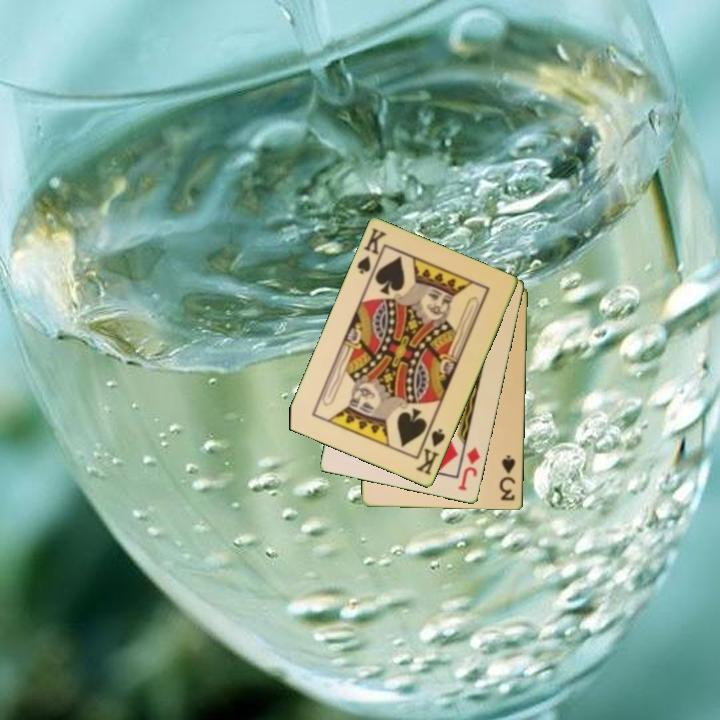3s: (497, 452, 519, 504)
Jd: (455, 444, 483, 494)
Ks: (354, 225, 390, 282), (413, 422, 448, 478)
